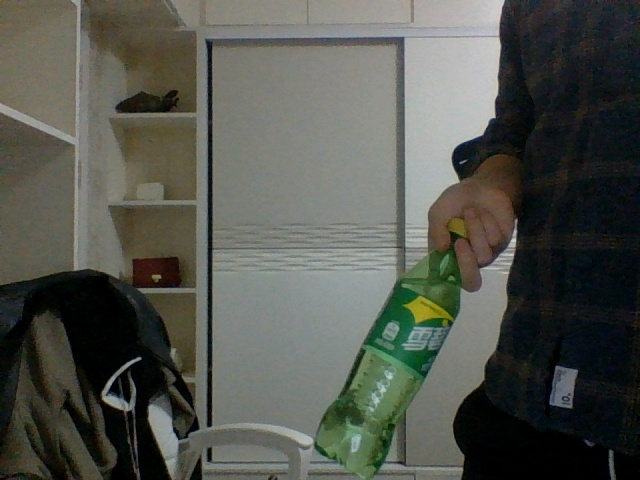Sprite: (313, 217, 473, 478)
